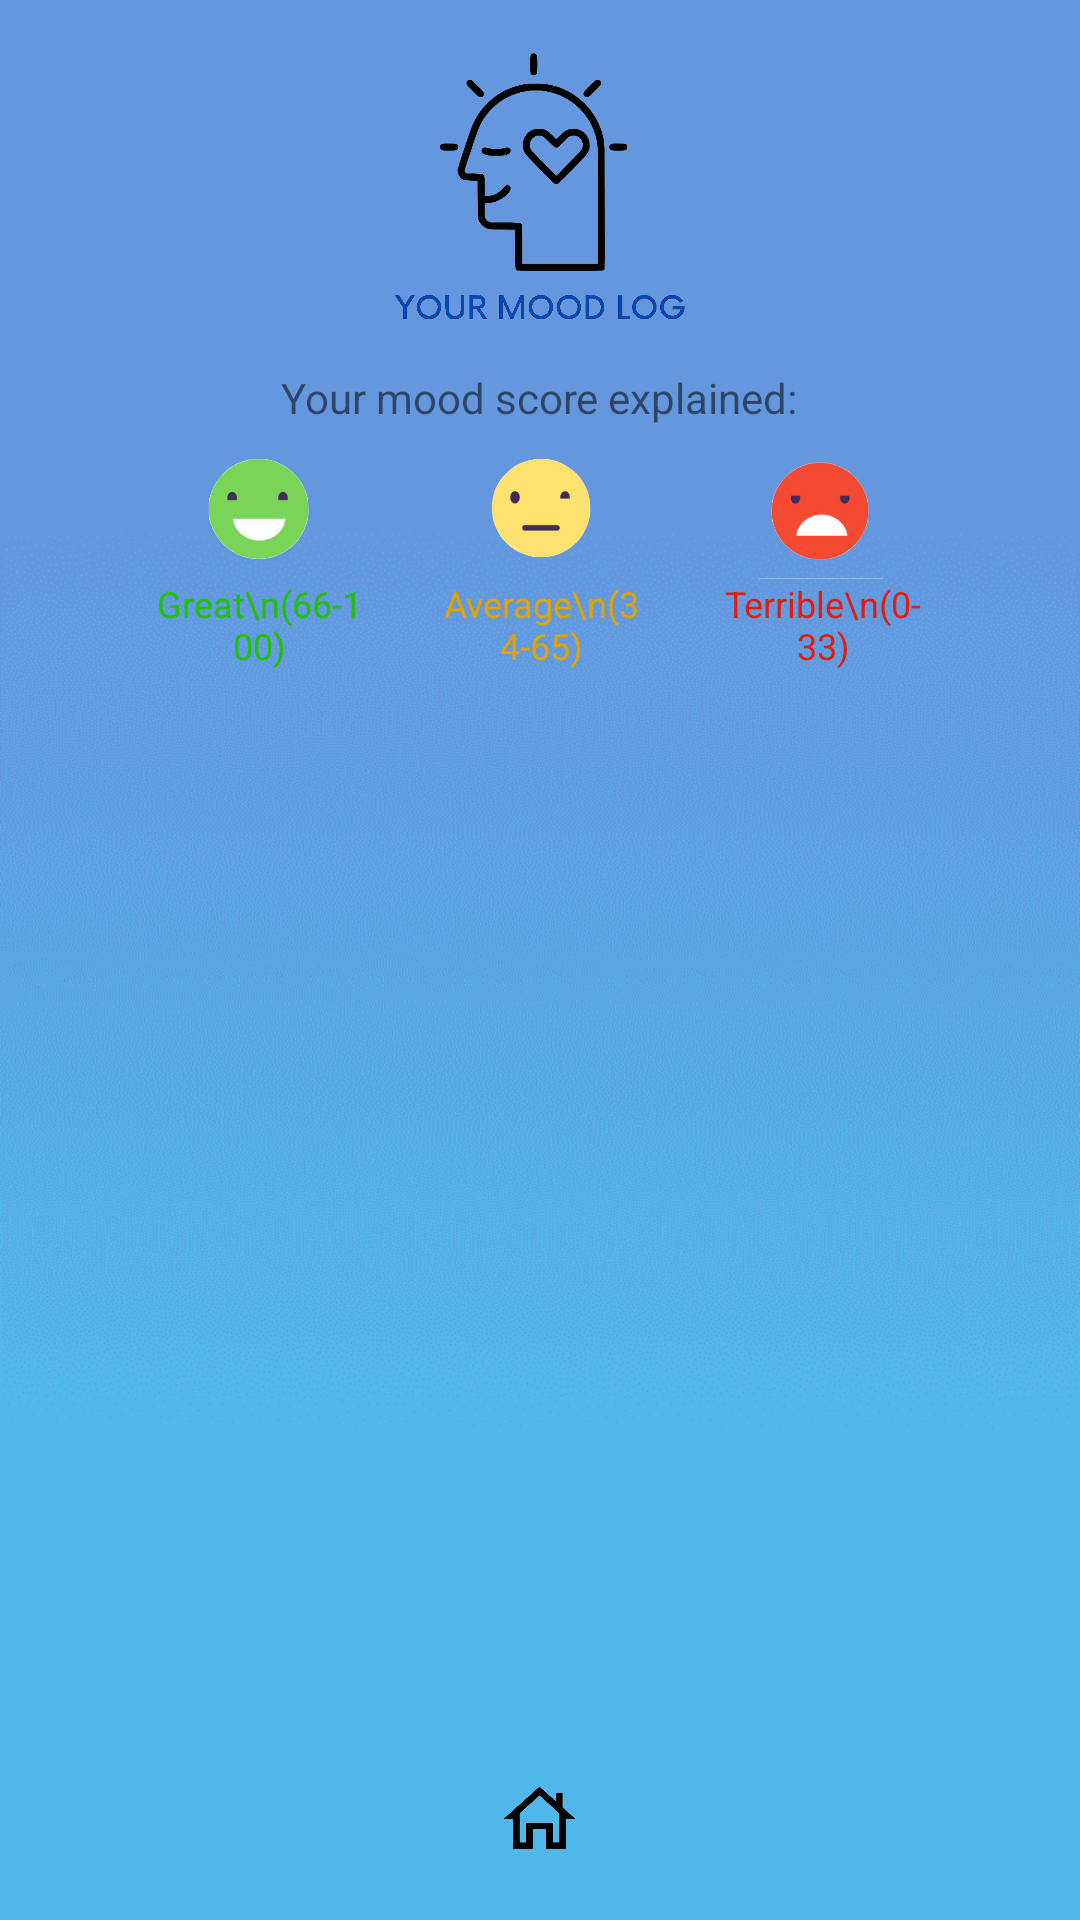

Icons on this 1080x1920 Android screen, each with the point to tap as (x,y):
home: (539,1818)
meh: (541,508)
